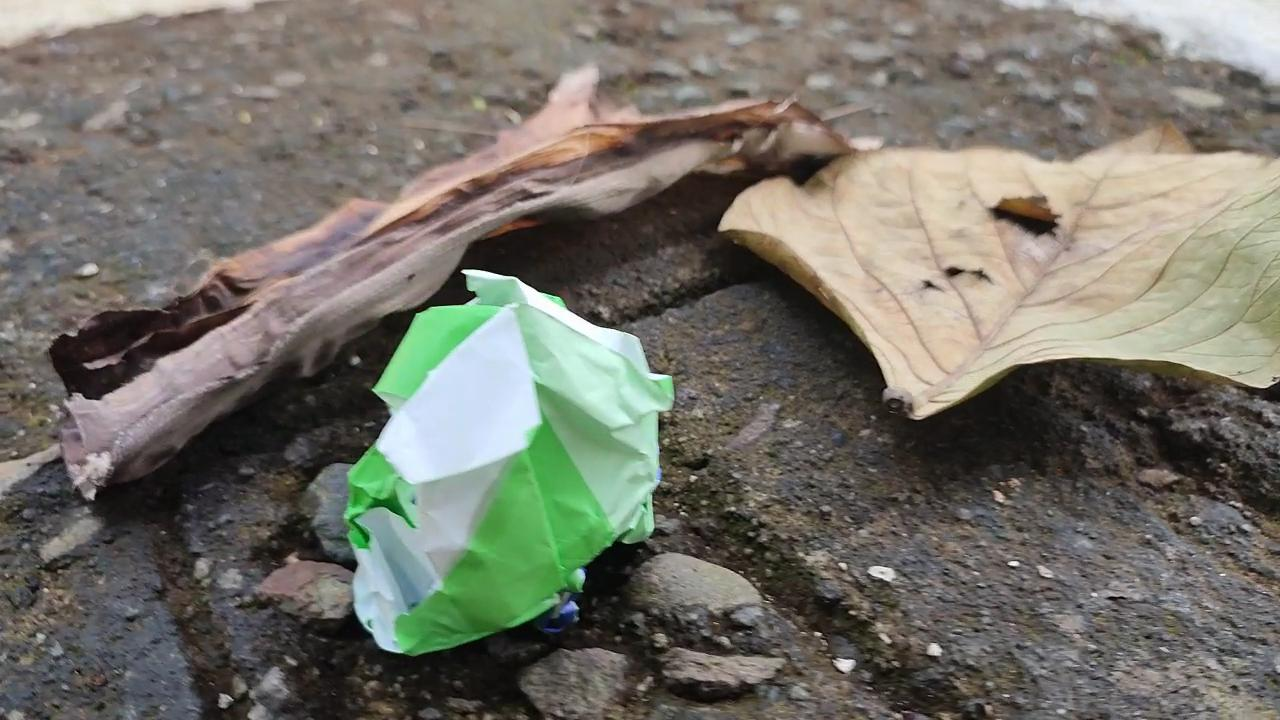Paper: (329, 246, 672, 666)
